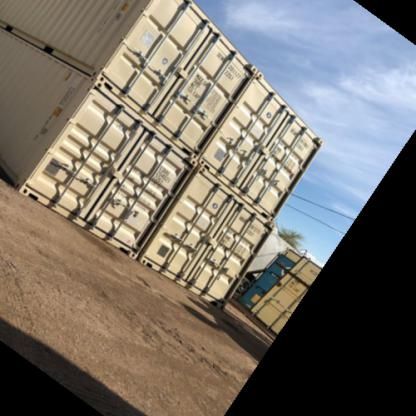Damage: (91, 207, 154, 287), (158, 22, 223, 64), (168, 282, 228, 323), (229, 75, 281, 111), (314, 231, 341, 268), (155, 182, 181, 215)
